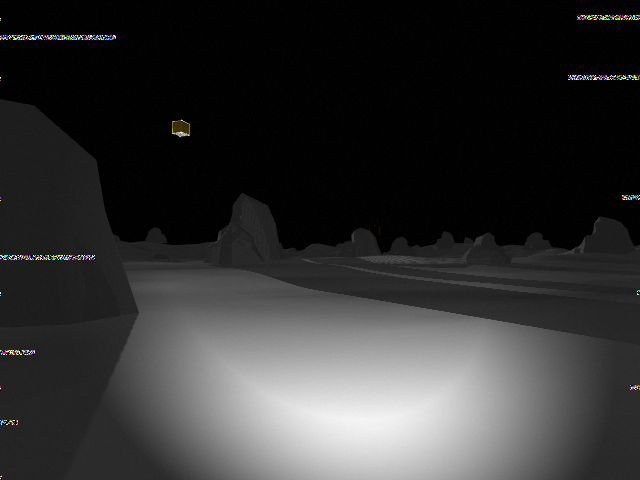cubesat: (168, 115, 193, 140)
